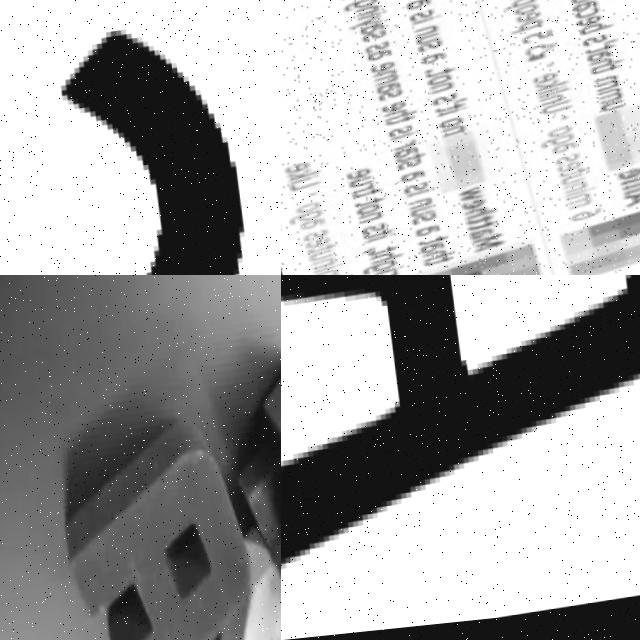5: (512, 35, 550, 53)
6: (559, 214, 595, 231)
A: (45, 419, 260, 640)
G: (0, 0, 271, 275)
R: (281, 275, 640, 594)
